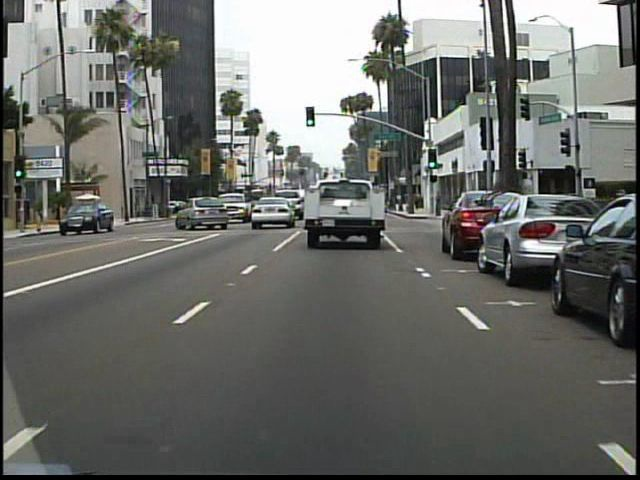person: (431, 188, 445, 218)
